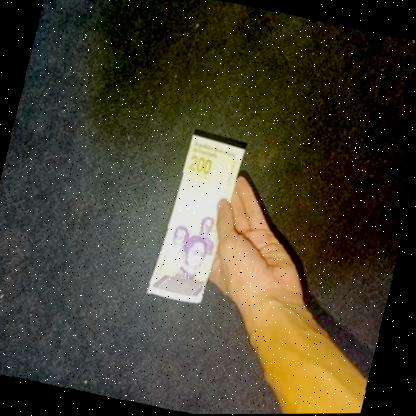two_hundred-front-vef: (146, 133, 247, 308)
